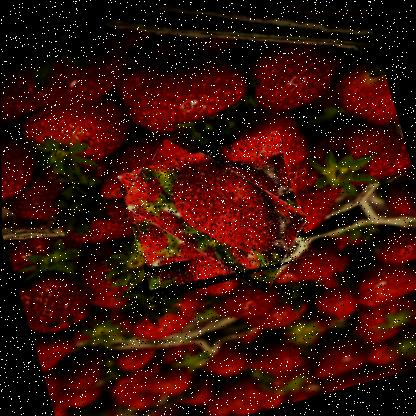strawberry: (113, 127, 314, 302)
